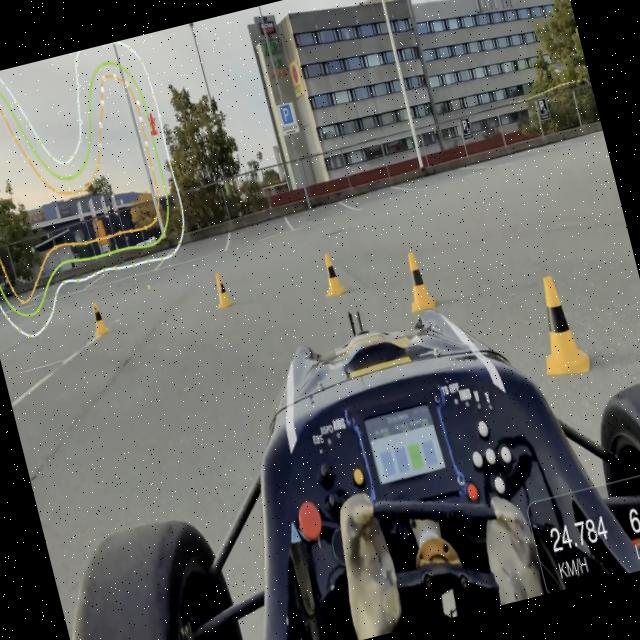yellow_cone: (518, 262, 595, 387), (400, 248, 440, 317), (316, 251, 346, 300), (207, 268, 236, 312), (86, 298, 110, 338)
